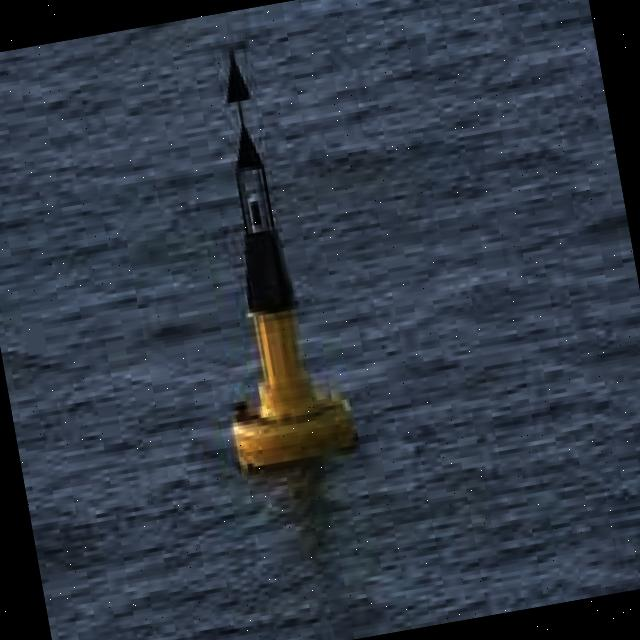marque: (165, 42, 361, 473)
